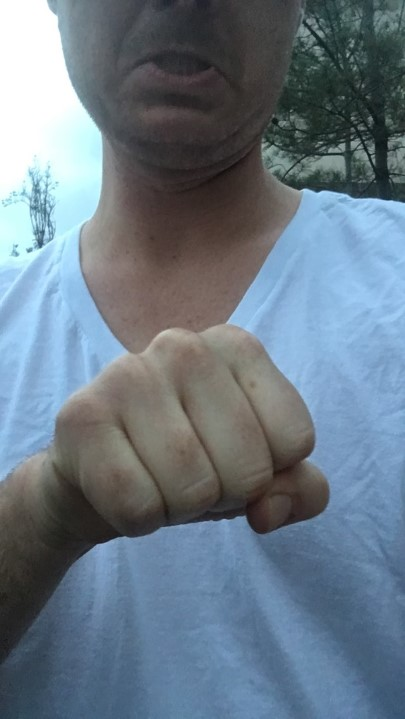hand: (51, 324, 331, 536)
